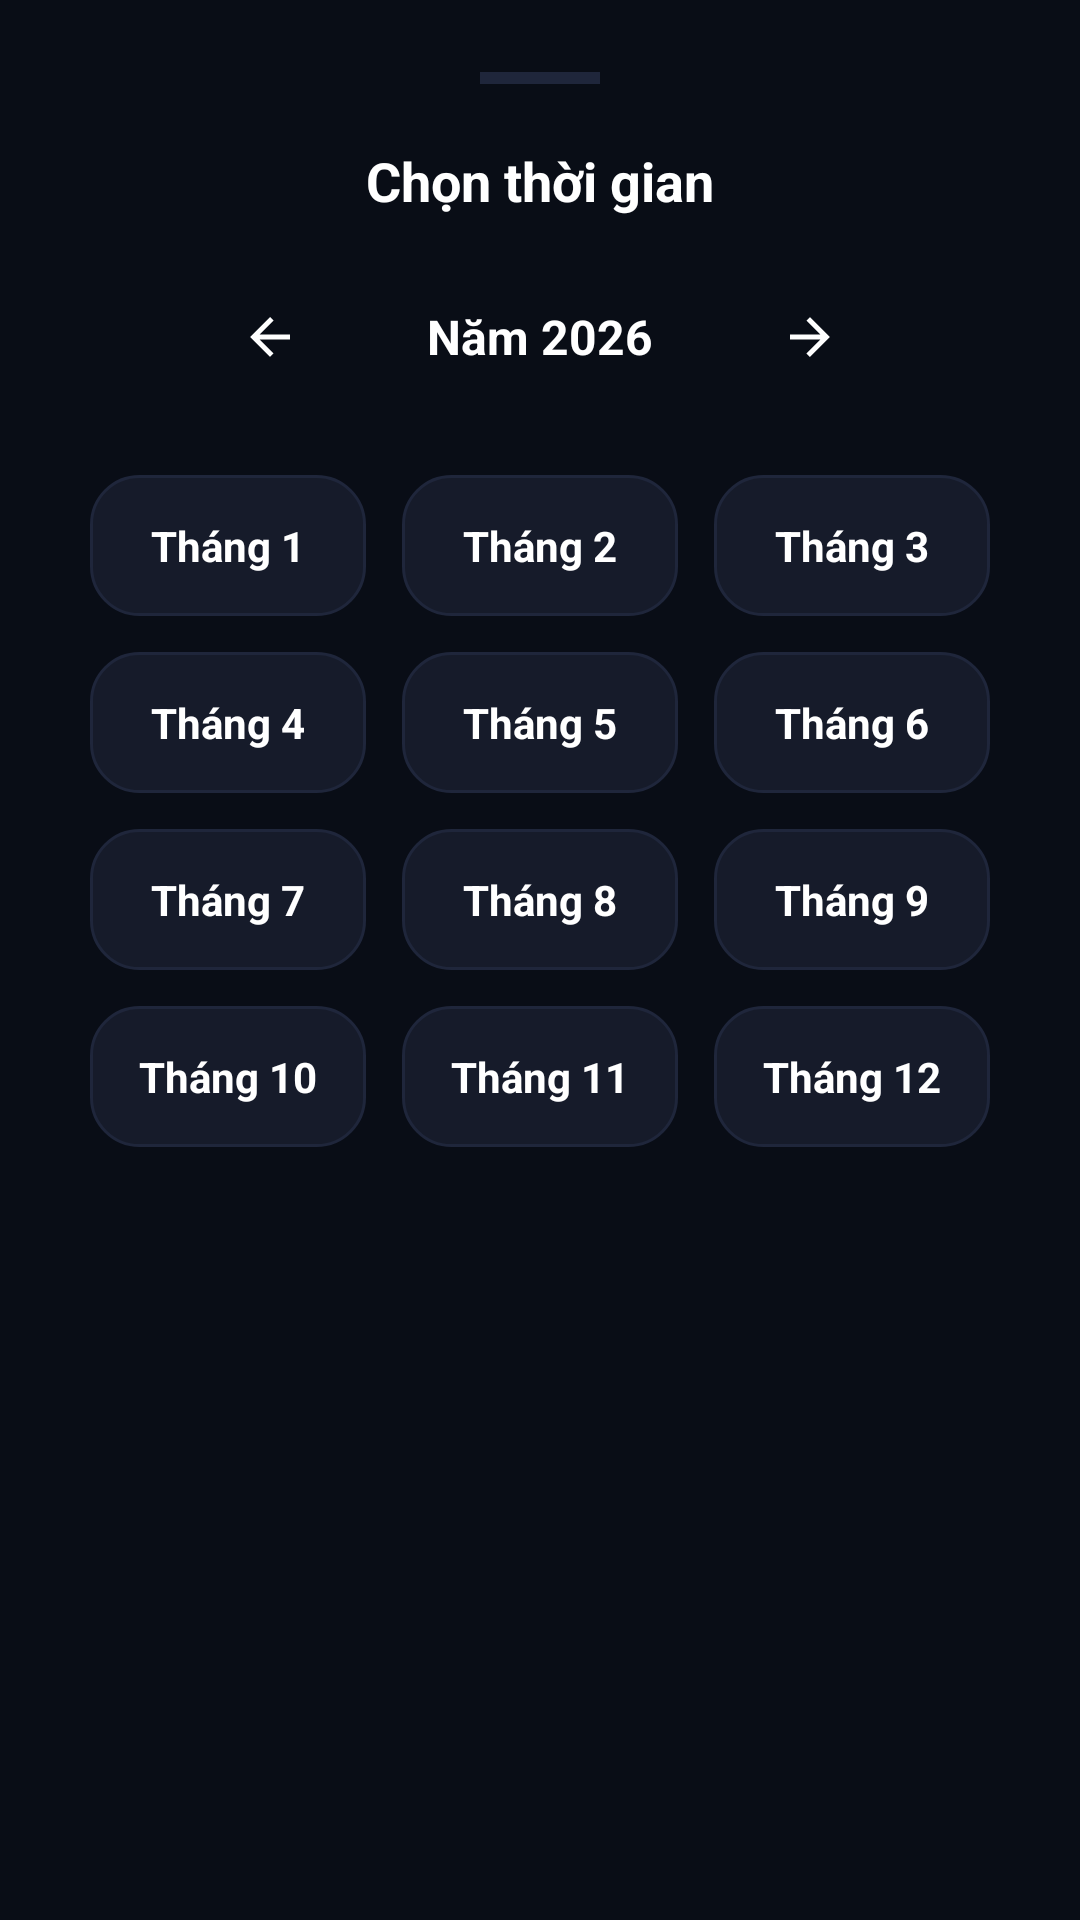

Where to tap for icons on this 1080w x 1920h app screen, as point (x, y):
Năm trước: point (270, 337)
